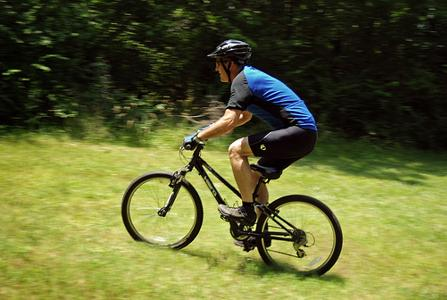person: (181, 40, 320, 247)
